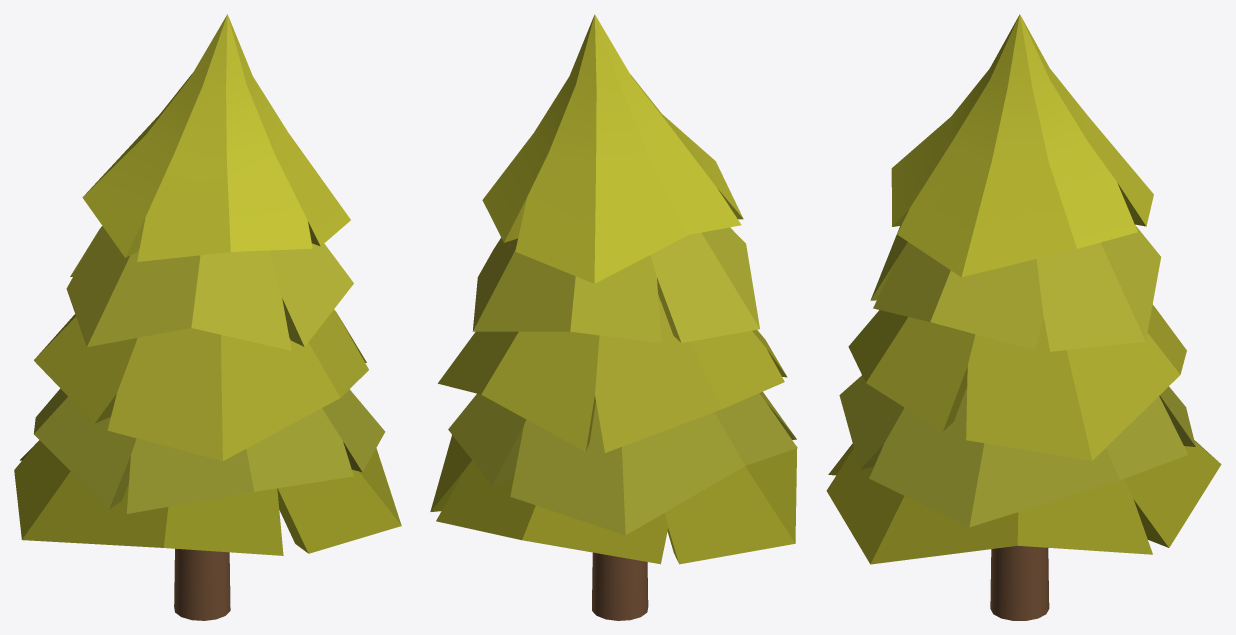
File: Spruce_Yellow_Thick_1.fbx
3 renders of one model, left to right at view 1: azimuth 30°, elevation 25°; view 2: azimuth 150°, elevation 25°; view 3: azimuth 270°, elevation 25°, orthographic. The views are drawn at different scales.
Parts seen in each view (by area): view 1: Cylinder.375, Cylinder.374, Cylinder.373, Cylinder.371, Cylinder.372, Cylinder.370; view 2: Cylinder.375, Cylinder.374, Cylinder.372, Cylinder.373, Cylinder.371, Cylinder.370; view 3: Cylinder.375, Cylinder.374, Cylinder.372, Cylinder.373, Cylinder.371, Cylinder.370.
Boxes of the visible parts, <box> form: Cylinder.375: <box>82,14,350,261</box>; Cylinder.374: <box>34,309,368,461</box>; Cylinder.373: <box>66,226,353,350</box>; Cylinder.371: <box>14,440,401,555</box>; Cylinder.372: <box>34,388,385,513</box>; Cylinder.370: <box>174,548,230,620</box>; Cylinder.375: <box>482,14,743,283</box>; Cylinder.374: <box>438,294,787,452</box>; Cylinder.372: <box>448,391,797,535</box>; Cylinder.373: <box>472,227,759,343</box>; Cylinder.371: <box>430,435,797,564</box>; Cylinder.370: <box>592,552,648,620</box>; Cylinder.375: <box>891,14,1153,277</box>; Cylinder.374: <box>848,304,1186,460</box>; Cylinder.372: <box>839,375,1195,527</box>; Cylinder.373: <box>870,225,1160,351</box>; Cylinder.371: <box>826,440,1221,564</box>; Cylinder.370: <box>990,545,1049,620</box>.
Bounding box in the file's own units: 347 × 567 × 334.
